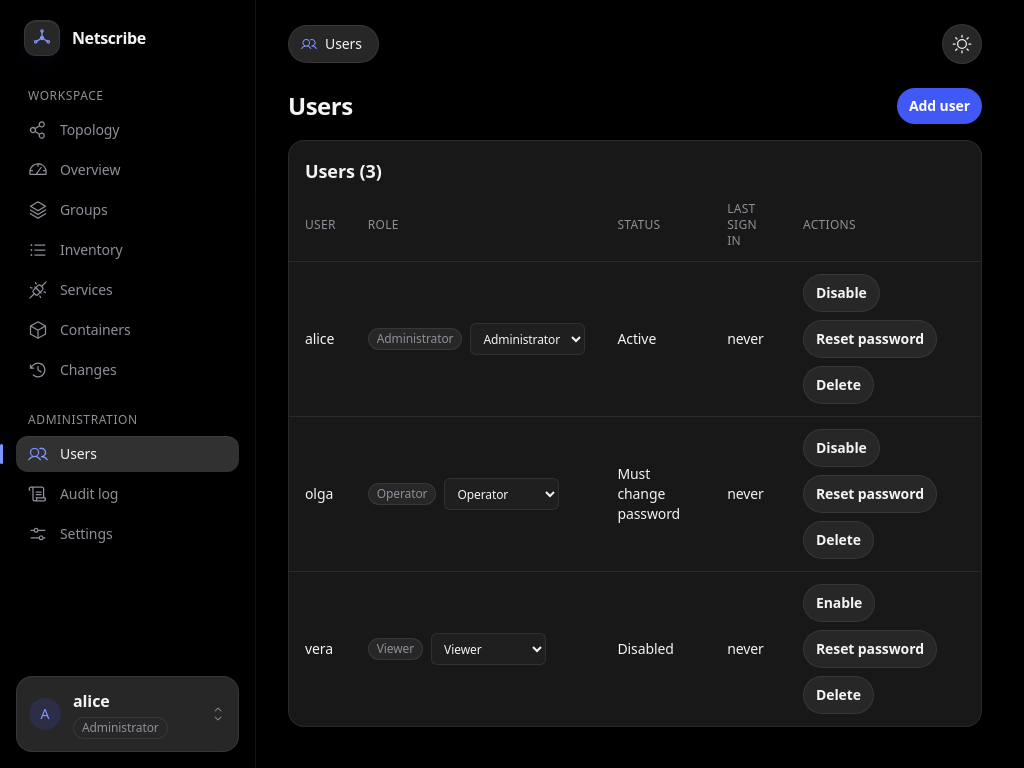
Test: Users page › shows the message of a rejected user
What coordinates should you click on to do the following:
click the button "Add user"
I would click on:
 (940, 106)
Its box is [897,88,982,124].
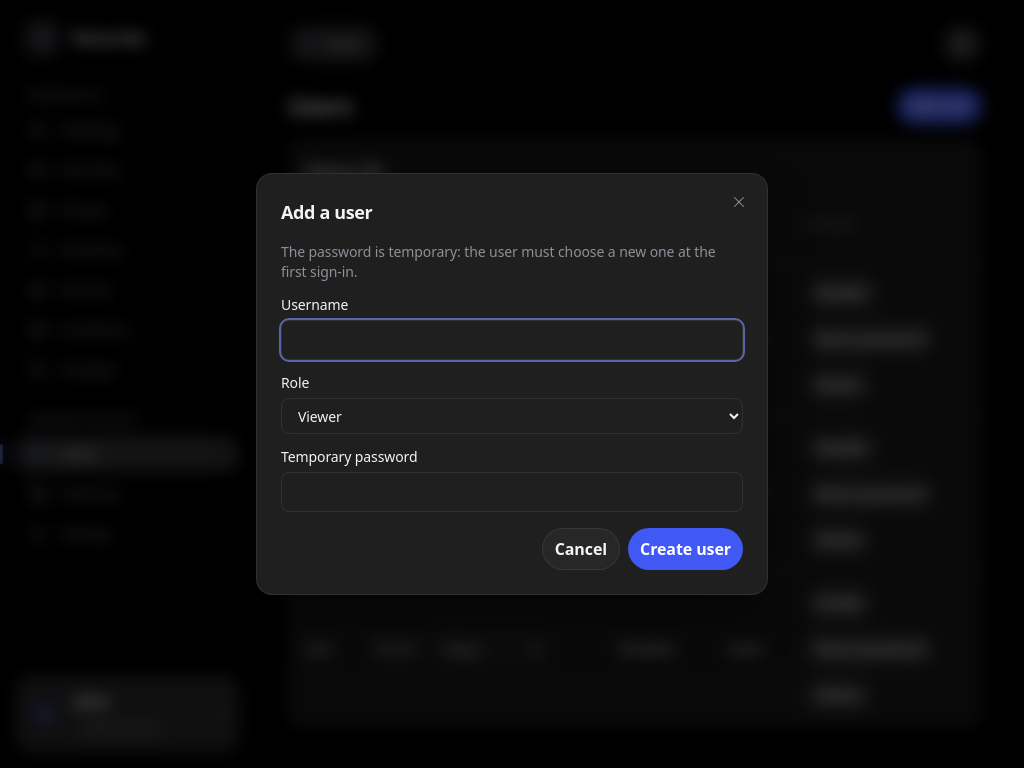
What coordinates should you click on to do the following:
click the button "Create user"
I would click on:
 (686, 549)
Its box is [628,528,743,570].
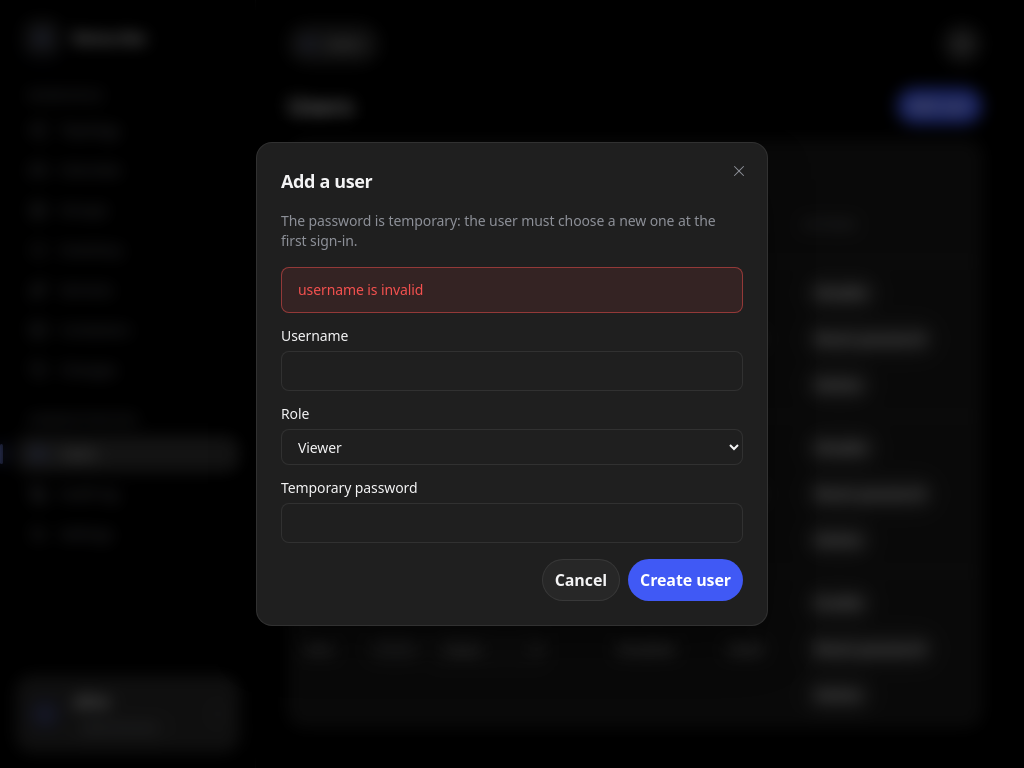
expect the message reads "username is invalid": met, box [298,280,423,299]
